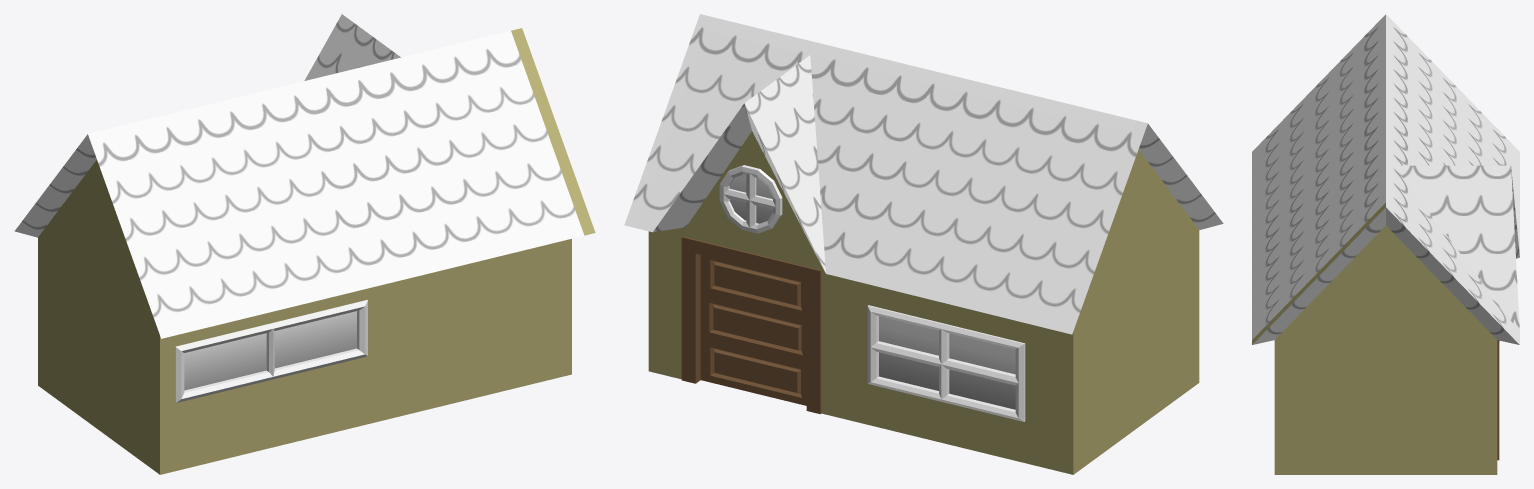
File: SimpleHouseSimpleTexture.fbx
3 views of the same model, side by side, from view 1: azimuth 30°, elevation 25°; view 2: azimuth 150°, elevation 25°; view 3: azimuth 270°, elevation 25° (orthographic). The views are drawn at different scales.
Parts seen in each view (by area): view 1: House Cmbnined.001; view 2: House Cmbnined.001; view 3: House Cmbnined.001.
Boxes of the visible parts, x1,y1,x2,y2 form: House Cmbnined.001: (14,14,595,474); House Cmbnined.001: (624,14,1223,474); House Cmbnined.001: (1252,14,1519,474).
Bounding box in the file's own units: 5.53 × 3.24 × 3.64.
Materials: 5 (2 with a texture image).
